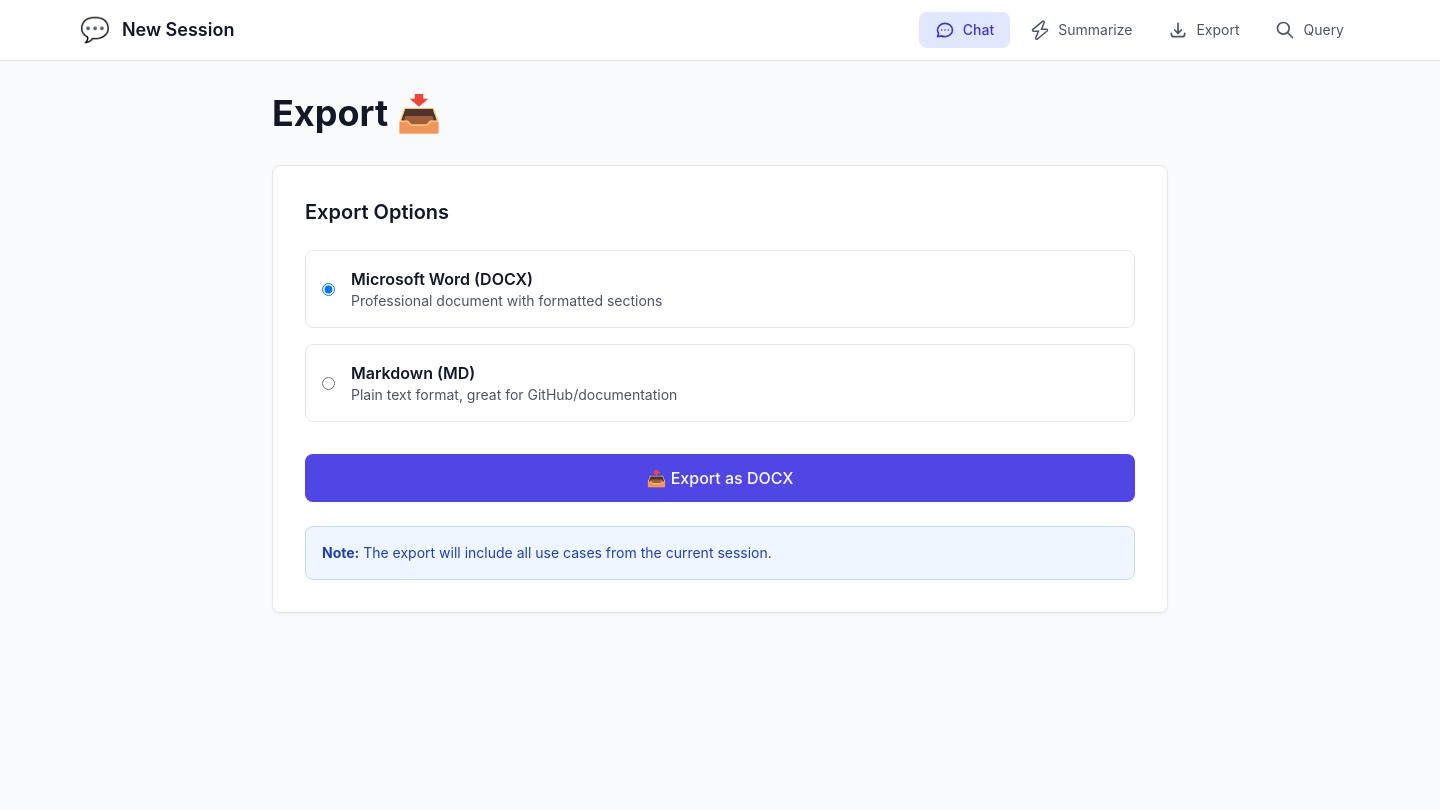
Export Component › With Active Session › updates format when different option is selected
The width and height of the screenshot is (1440, 810).
Expected: the button reads "📥 Export as DOCX", [305,454,1135,502]
// Select Markdown format
What coordinates should you click on to do the following:
click the radio button with test id "markdown-radio"
I would click on:
 (328, 383)
Its box is [322,376,335,390].
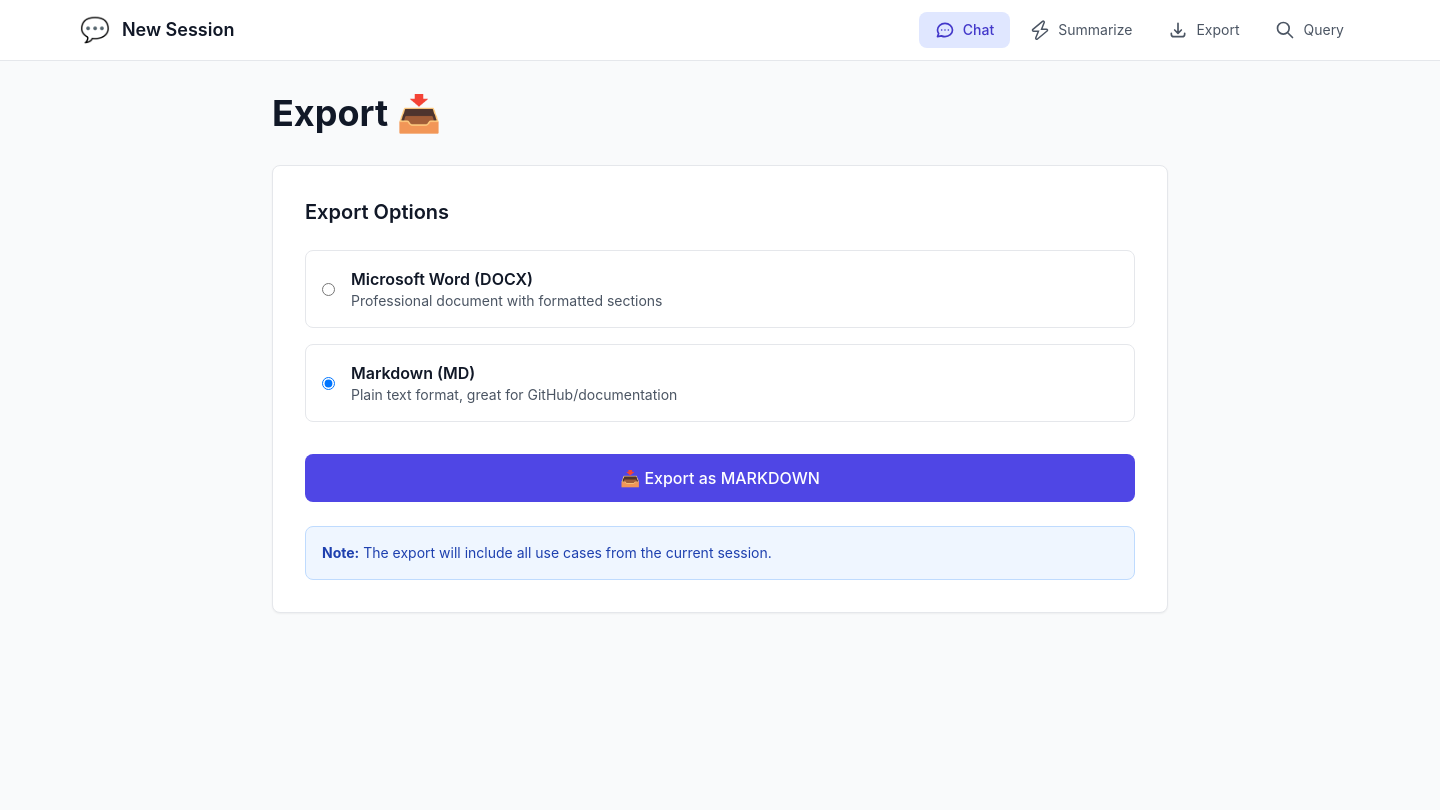
Expected: the button reads "📥 Export as MARKDOWN", [305,454,1135,502]
